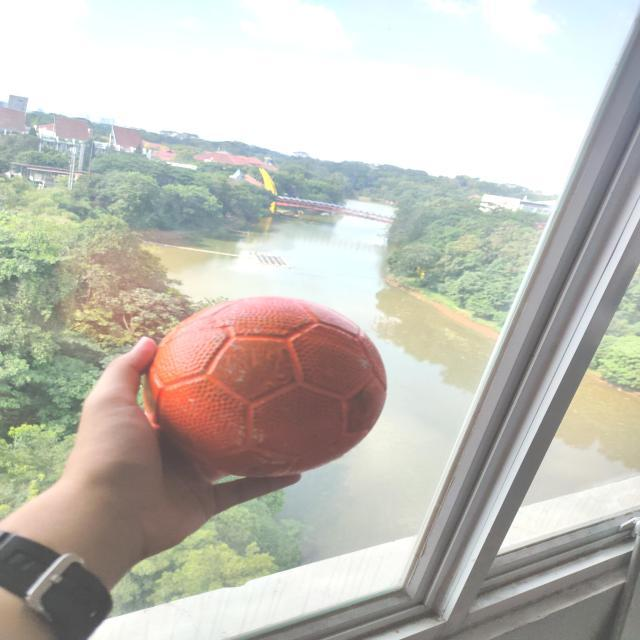bola: (99, 278, 412, 494)
